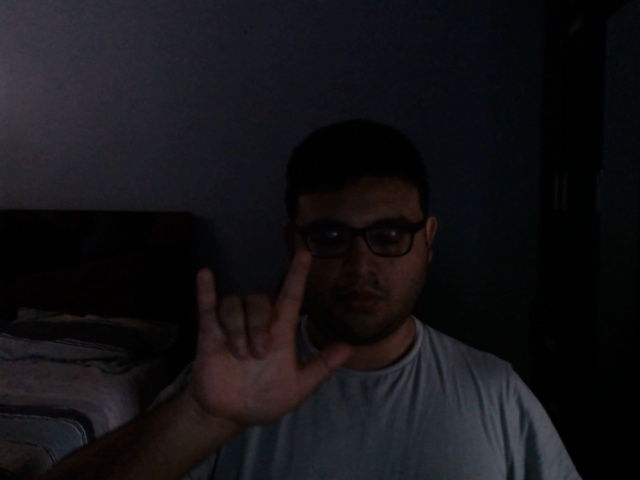I love you: (183, 248, 356, 433)
